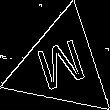M_S: (32, 34, 90, 98)
